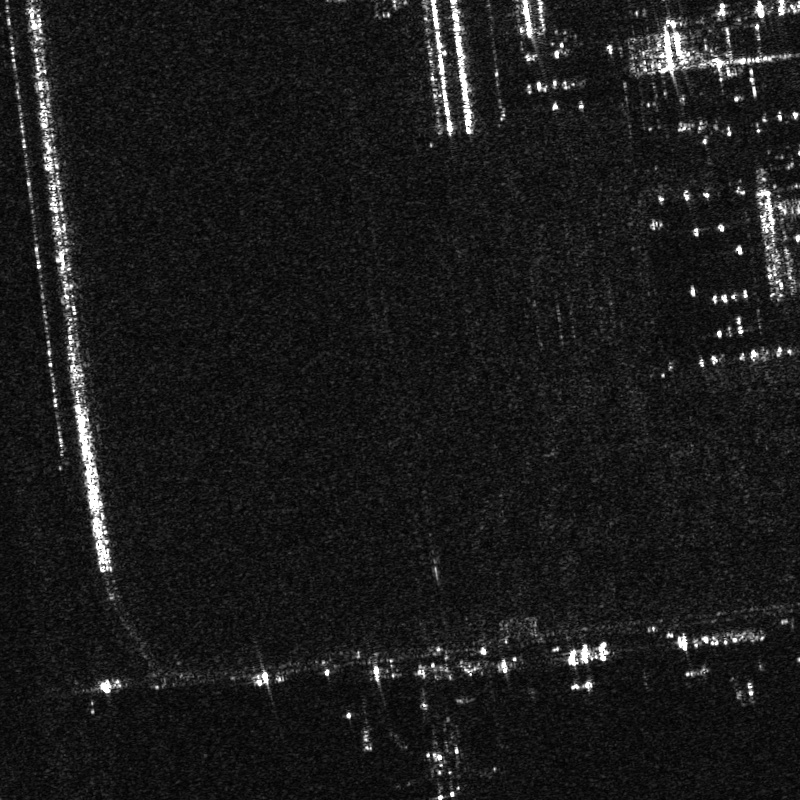A320/321: (385, 735, 504, 799)
